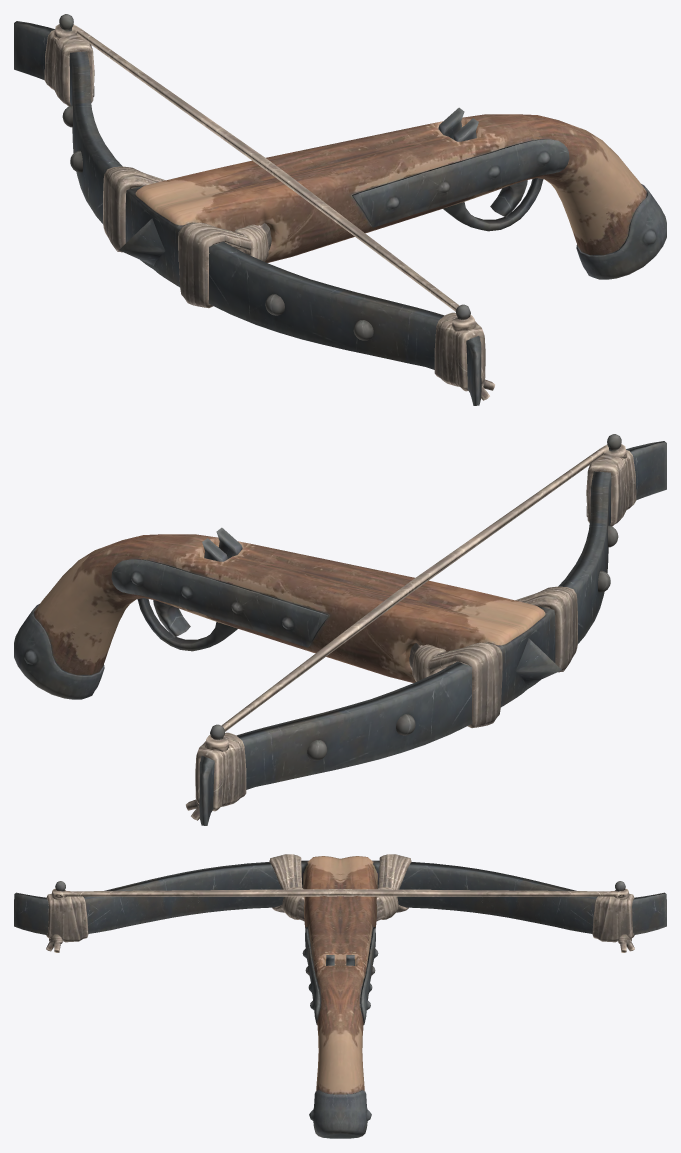
3 views of the same model, one above another, from view 1: azimuth 30°, elevation 25°; view 2: azimuth 150°, elevation 25°; view 3: azimuth 270°, elevation 25° (orthographic). The views are drawn at different scales.
Visible parts, largest first — view 1: SM_Crossbow_Iron_1H_01_LOD0; view 2: SM_Crossbow_Iron_1H_01_LOD0; view 3: SM_Crossbow_Iron_1H_01_LOD0.
Part boxes in pixels (bbox=[...]): SM_Crossbow_Iron_1H_01_LOD0: bbox=[14, 14, 666, 405]; SM_Crossbow_Iron_1H_01_LOD0: bbox=[14, 434, 666, 825]; SM_Crossbow_Iron_1H_01_LOD0: bbox=[14, 854, 666, 1138].
Bounding box in the file's own units: 0.5055 × 0.1752 × 0.7456.
1 material, 1 textured.
